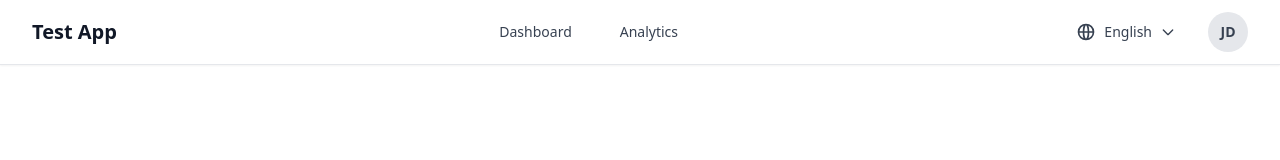
Navigation - Accessibility with Keyboard Navigation › ARIA attributes verification › should update aria-expanded when user menu is opened
The image size is (1280, 160).
Expected: the text "JD" is shown, left=1220, top=22, right=1236, bottom=42
What coordinates should you click on to do the following:
click the button with aria-label "User menu"
I would click on:
 (1228, 32)
Its box is left=1208, top=12, right=1248, bottom=52.
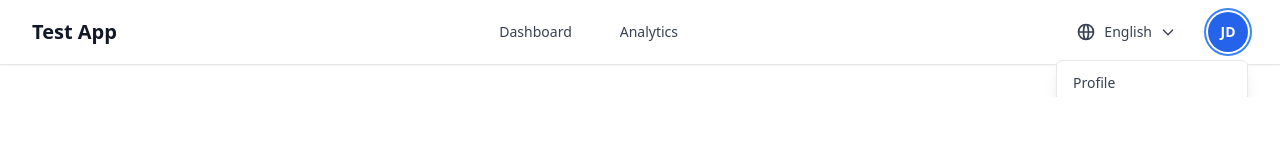
Expected: the button with aria-label "User menu" is expanded, left=1208, top=12, right=1248, bottom=52
